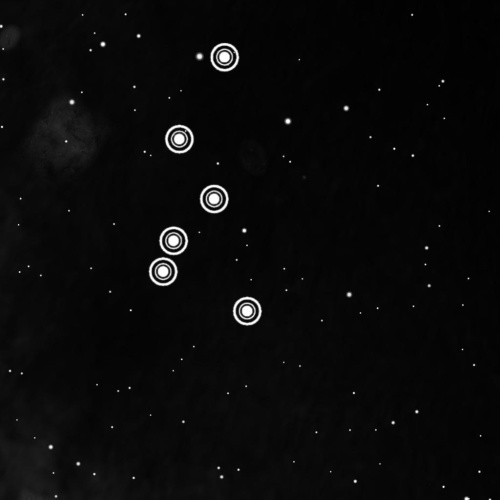cassiopeia: (142, 36, 267, 332)
